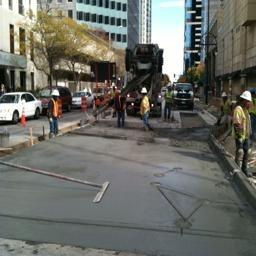hat: (236, 88, 254, 102), (48, 87, 62, 97), (139, 87, 149, 95)
low quality vest: (234, 107, 250, 140), (46, 97, 61, 116), (141, 99, 150, 118)
